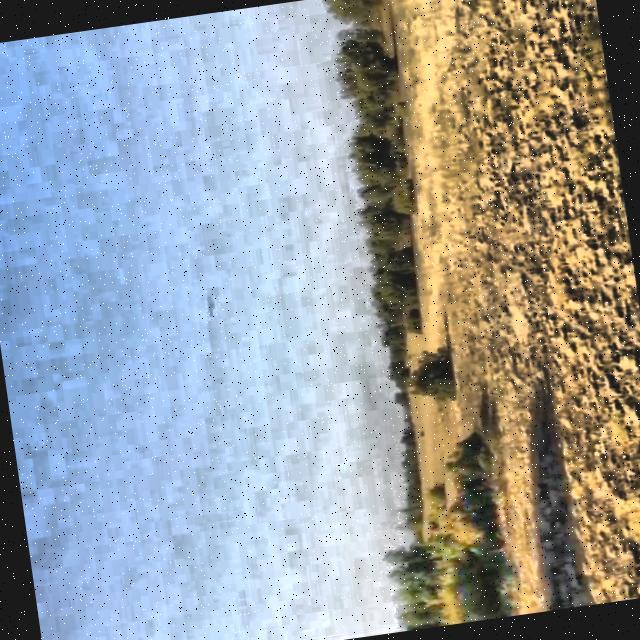iha: (194, 288, 227, 329)
